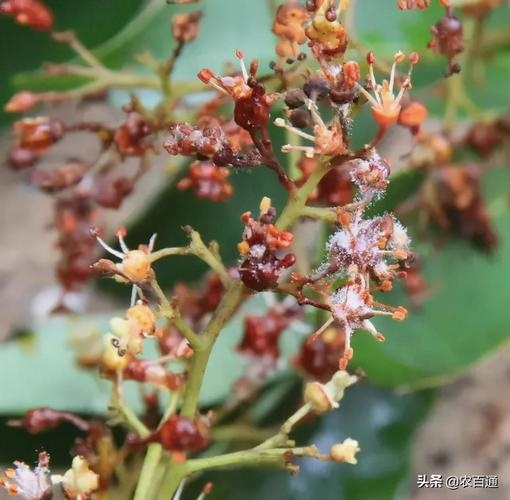Frost_Blight: (198, 35, 390, 402), (103, 207, 173, 430)
